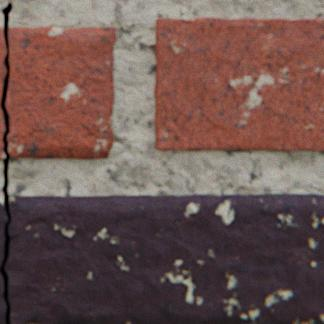brick: (153, 17, 323, 150)
broken_brick: (5, 193, 323, 323), (6, 26, 115, 158), (0, 197, 7, 264), (0, 27, 6, 99), (0, 270, 5, 323), (0, 106, 5, 158)
crack: (0, 1, 13, 323)
